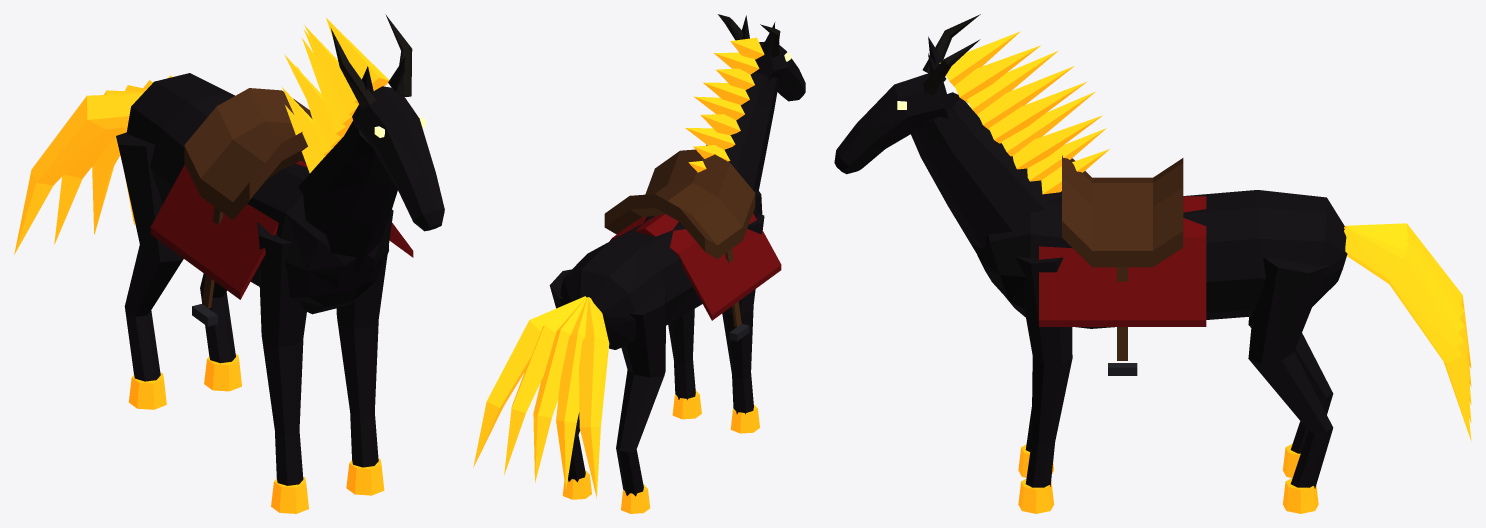
Rendered from montura_corcel_infernal.fbx.
3 views of the same model, side by side, from view 1: azimuth 30°, elevation 25°; view 2: azimuth 150°, elevation 25°; view 3: azimuth 270°, elevation 25° (orthographic). The views are drawn at different scales.
Visible parts, largest first — view 1: cuerpo, cabeza, pata_del_der, cola, pata_tras_der, pata_del_izq, pata_tras_izq; view 2: cuerpo, cola, cabeza, pata_tras_der, pata_del_der, pata_del_izq, pata_tras_izq; view 3: cuerpo, cabeza, pata_tras_izq, cola, pata_del_izq, pata_tras_der.
Part boxes in pixels (x1,y1,x2,y2): cuerpo: [126, 73, 413, 326]; cabeza: [282, 14, 444, 272]; pata_del_der: [257, 222, 308, 513]; cola: [14, 75, 172, 254]; pata_tras_der: [116, 132, 183, 409]; pata_del_izq: [336, 209, 393, 495]; pata_tras_izq: [200, 273, 241, 391]; cuerpo: [560, 149, 781, 349]; cola: [473, 296, 609, 497]; cabeza: [685, 14, 805, 191]; pata_tras_der: [616, 287, 666, 513]; pata_del_der: [722, 213, 764, 433]; pata_del_izq: [668, 308, 701, 419]; pata_tras_izq: [549, 269, 591, 499]; cuerpo: [974, 155, 1347, 375]; cabeza: [834, 14, 1109, 253]; pata_tras_izq: [1248, 257, 1333, 513]; cola: [1344, 223, 1471, 440]; pata_del_izq: [1015, 256, 1072, 513]; pata_tras_der: [1248, 316, 1333, 477].
Bounding box in the file's own units: 1.01 × 2.78 × 3.47.
